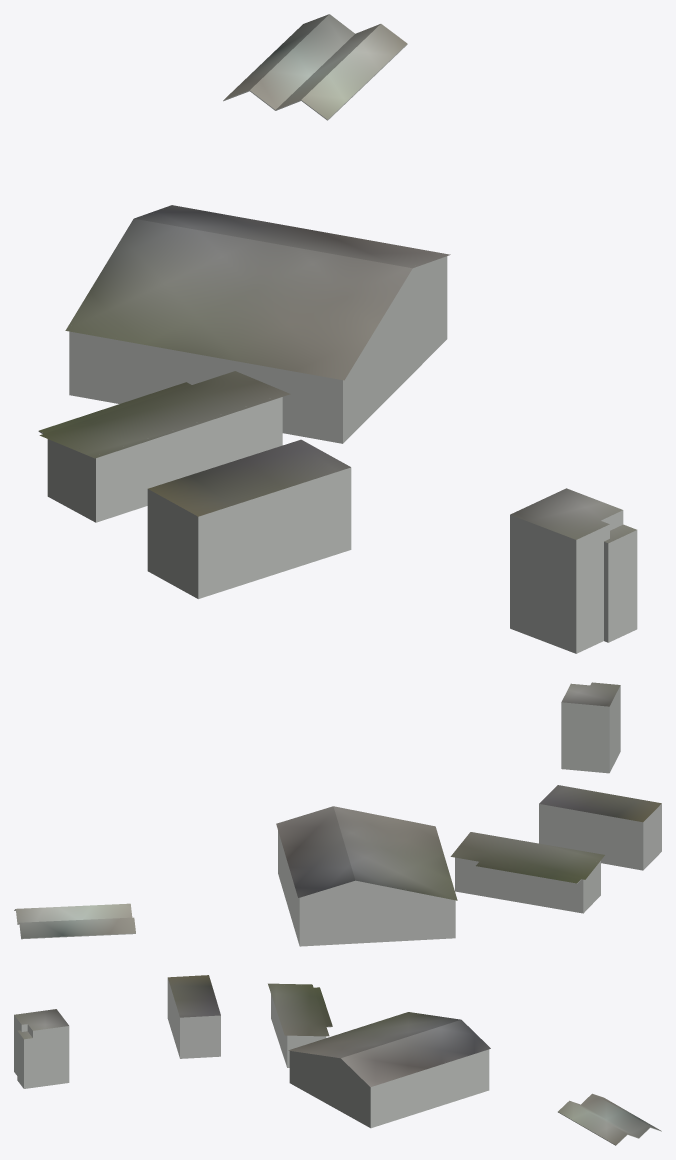
File: LSZH_-3_3.glb
3 renders of one model, top to bottom at view 1: azimuth 30°, elevation 25°; view 2: azimuth 150°, elevation 25°; view 3: azimuth 270°, elevation 25°, orthographic. The views are drawn at different scales.
Parts seen in each view (by area): view 1: building_8678aeacc9dcc91b, building_5adb88bdcba27973, building_4c973fa688b6860b, building_056ac190bd509d6d, building_75acb28ba186171a; view 2: building_8678aeacc9dcc91b, building_5adb88bdcba27973, building_4c973fa688b6860b, building_75acb28ba186171a, building_056ac190bd509d6d; view 3: building_8678aeacc9dcc91b, building_5adb88bdcba27973, building_4c973fa688b6860b, building_056ac190bd509d6d, building_75acb28ba186171a.
Boxes of the visible parts, x1,y1,x2,y2 form: building_8678aeacc9dcc91b: (39,205,450,458); building_5adb88bdcba27973: (38,256,447,522); building_4c973fa688b6860b: (147,467,637,653); building_056ac190bd509d6d: (148,439,636,543); building_75acb28ba186171a: (224,14,407,119); building_8678aeacc9dcc91b: (276,806,604,900); building_5adb88bdcba27973: (278,831,600,946); building_4c973fa688b6860b: (539,685,661,870); building_75acb28ba186171a: (15,903,135,938); building_056ac190bd509d6d: (539,682,661,822); building_8678aeacc9dcc91b: (268,983,490,1087); building_5adb88bdcba27973: (271,994,489,1128); building_4c973fa688b6860b: (14,978,220,1088); building_056ac190bd509d6d: (14,975,220,1039); building_75acb28ba186171a: (558,1093,660,1144).
Bounding box in the file's own units: 65.8 × 10.95 × 110.
2 materials, 1 textured.
